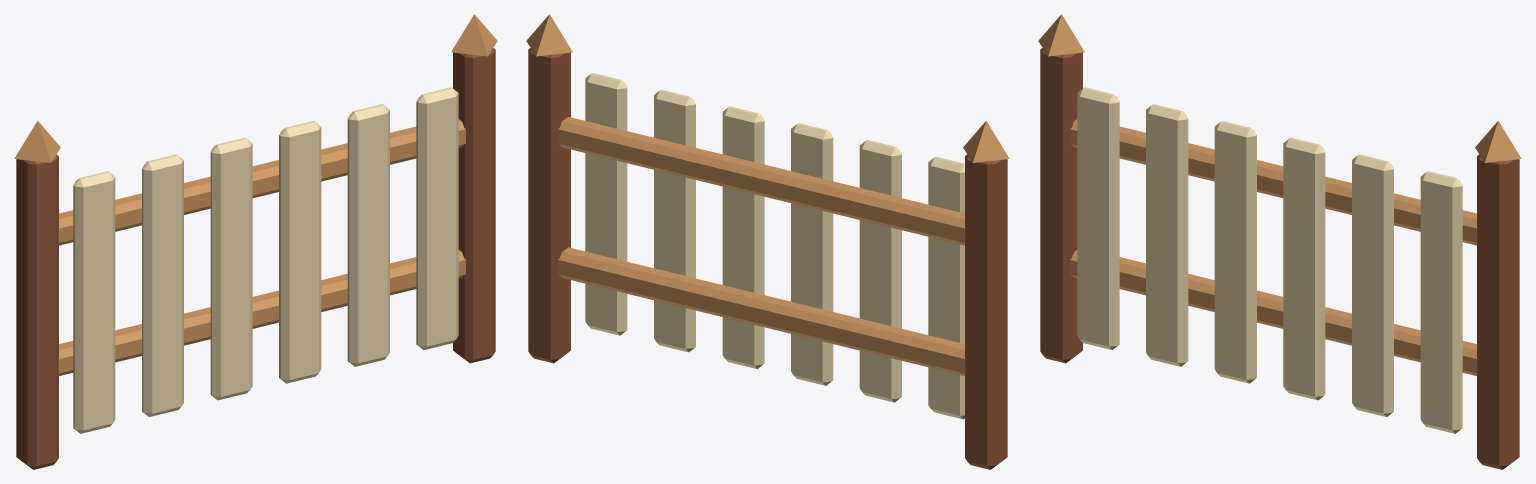
File: 05_Picket_Fence.glb
3 renders of one model, left to right at view 1: azimuth 30°, elevation 25°; view 2: azimuth 150°, elevation 25°; view 3: azimuth 330°, elevation 25°, orthographic.
Visible parts, largest first — view 1: 05_Picket_Fence; view 2: 05_Picket_Fence; view 3: 05_Picket_Fence.
Boxes of the visible parts, left/top/right/bottom form: 05_Picket_Fence: left=14, top=14, right=497, bottom=469; 05_Picket_Fence: left=526, top=14, right=1009, bottom=469; 05_Picket_Fence: left=1038, top=14, right=1521, bottom=469.
Bounding box in the file's own units: 1.55 × 1.05 × 0.1525.
